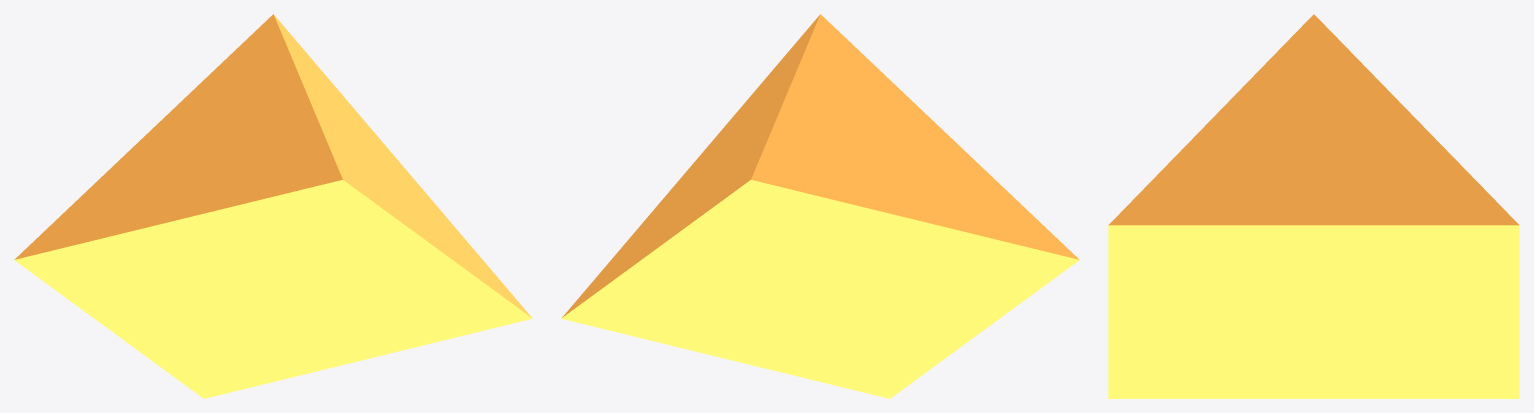
3 renders of one model, left to right at view 1: azimuth 30°, elevation 25°; view 2: azimuth 150°, elevation 25°; view 3: azimuth 270°, elevation 25°, orthographic. The views are drawn at different scales.
Visible parts, largest first — view 1: DemoPyramid; view 2: DemoPyramid; view 3: DemoPyramid.
Part boxes in pixels (x1,y1,x2,y2): DemoPyramid: (14,14,532,398); DemoPyramid: (561,14,1079,398); DemoPyramid: (1108,14,1519,398).
Bounding box in the file's own units: 2 × 1.6 × 2.
